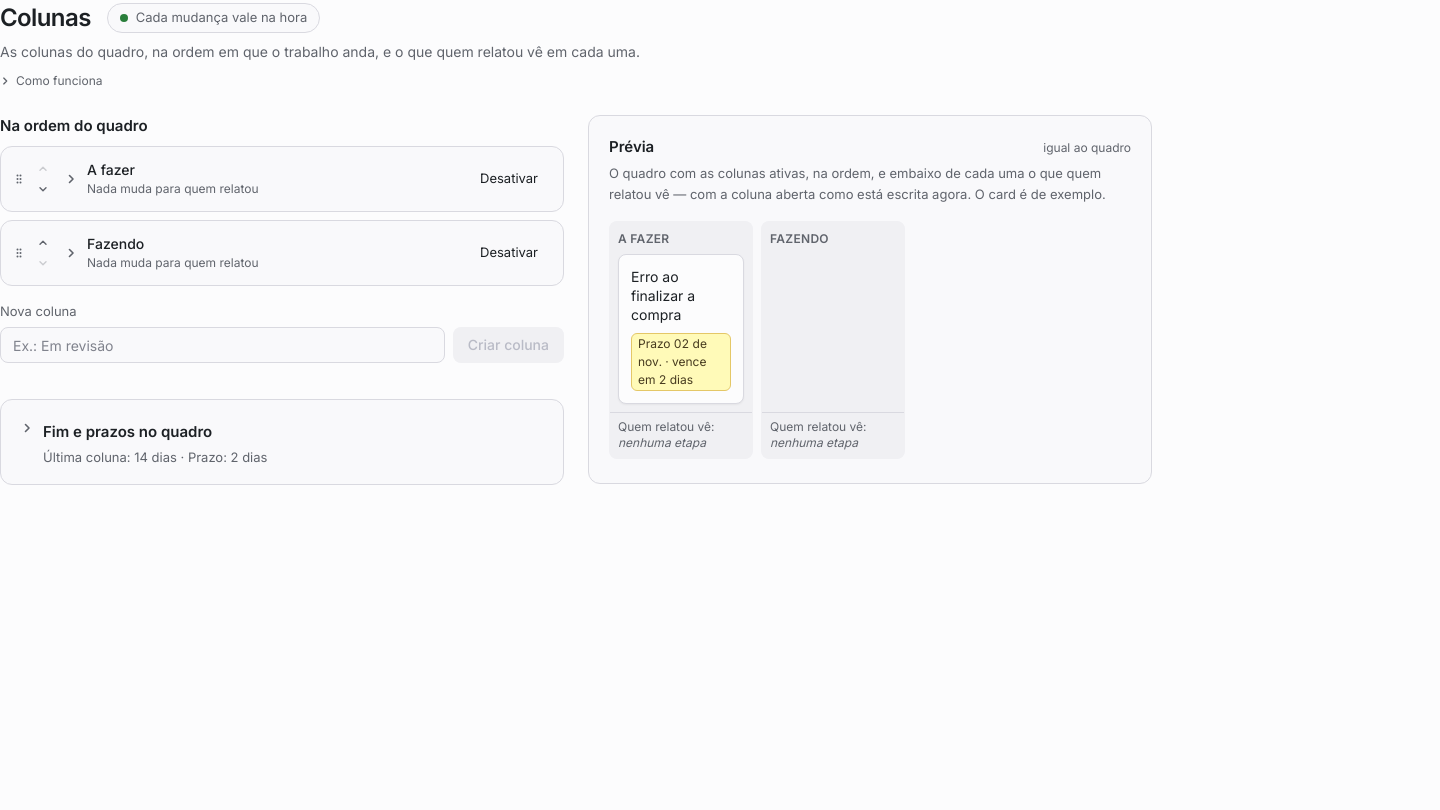
Test case: ProjectStatesScreen › sem conseguir contar, a pergunta continua — só sem o número
What coordinates should you click on to do the following:
click the button with aria-label "Desativar A fazer"
I would click on:
 (509, 178)
Its box is [467,162,551,194].
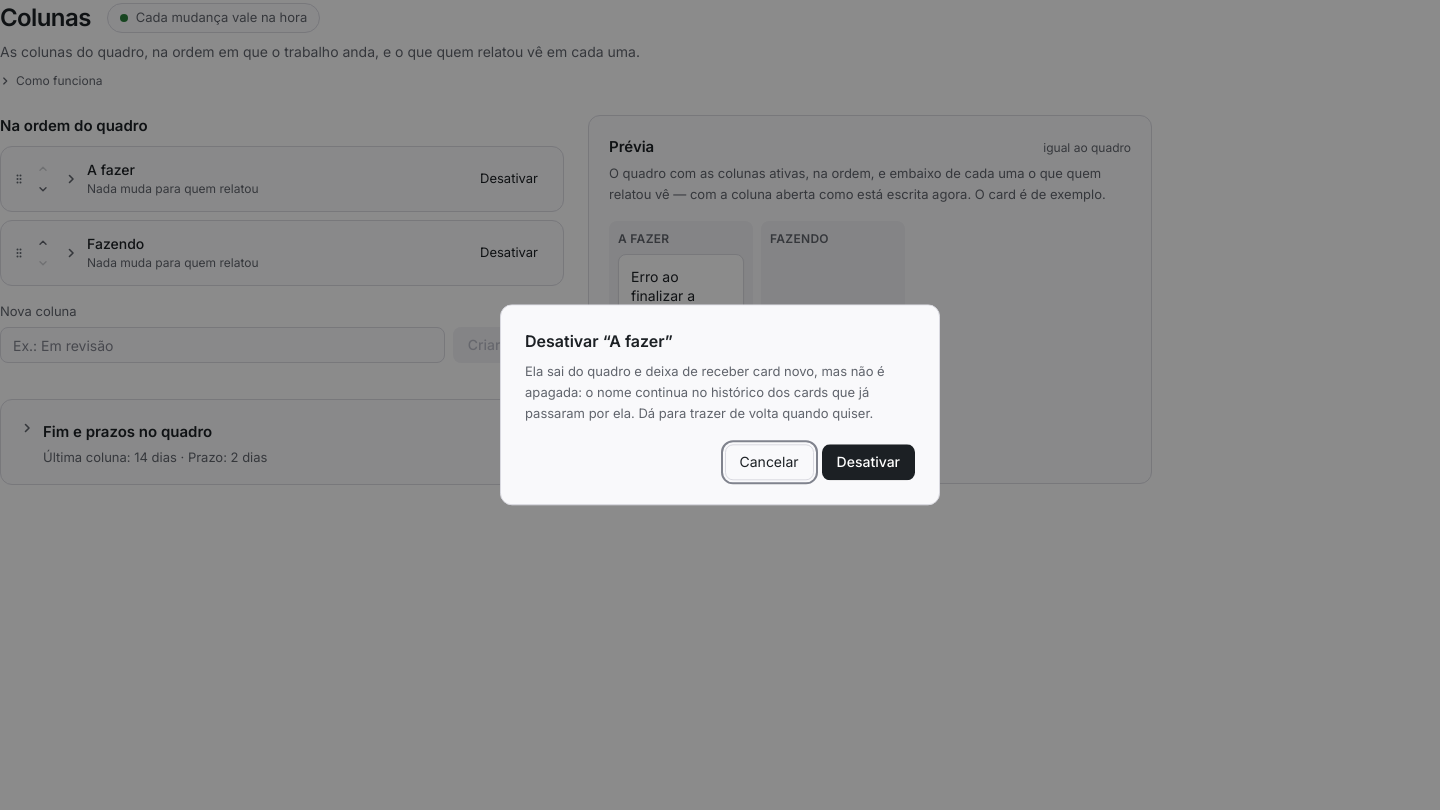
Check: the text "Ela sai do quadro e deixa de receber card novo" is shown, box [525,363,885,422]
Check: the button "Desativar" is shown, box [822,445,915,481]
